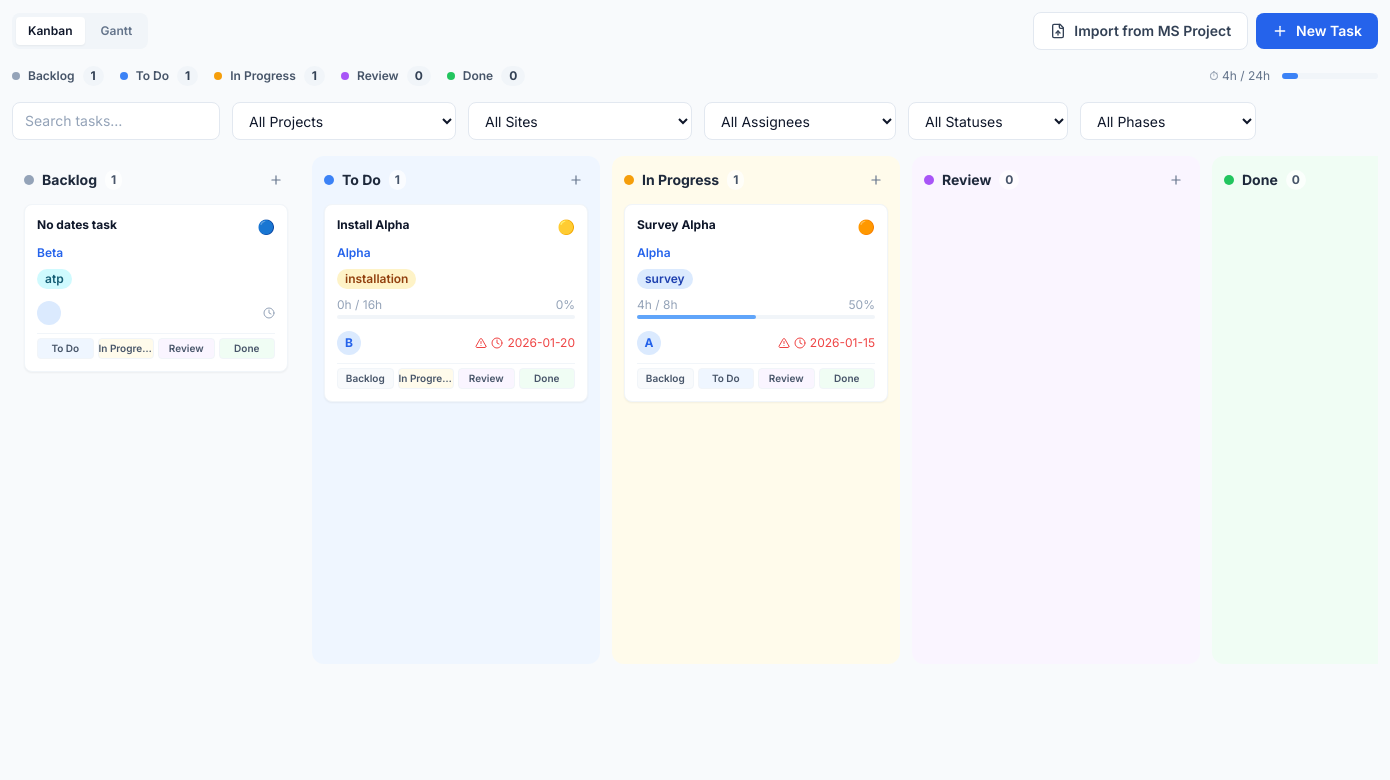
Test case: TaskBoard — tabs › schedule filter (Gantt only) narrows to unscheduled tasks
The image size is (1390, 780).
Click the tab "gantt" at coordinates (116, 31), box top-left (88, 17), bottom-right (144, 45)
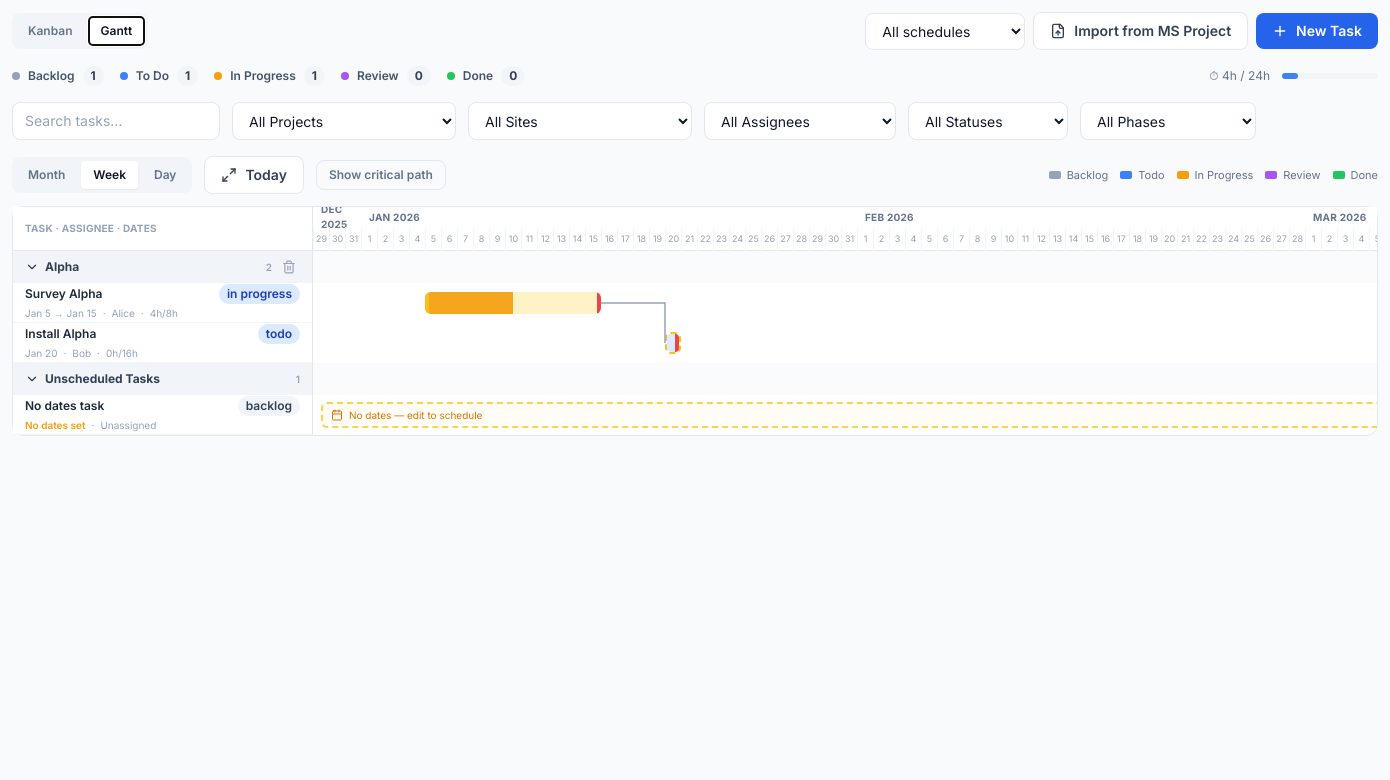
Select "Unscheduled" in the 1st dropdown showing "All schedules" at coordinates (945, 31), box top-left (865, 12), bottom-right (1025, 50)
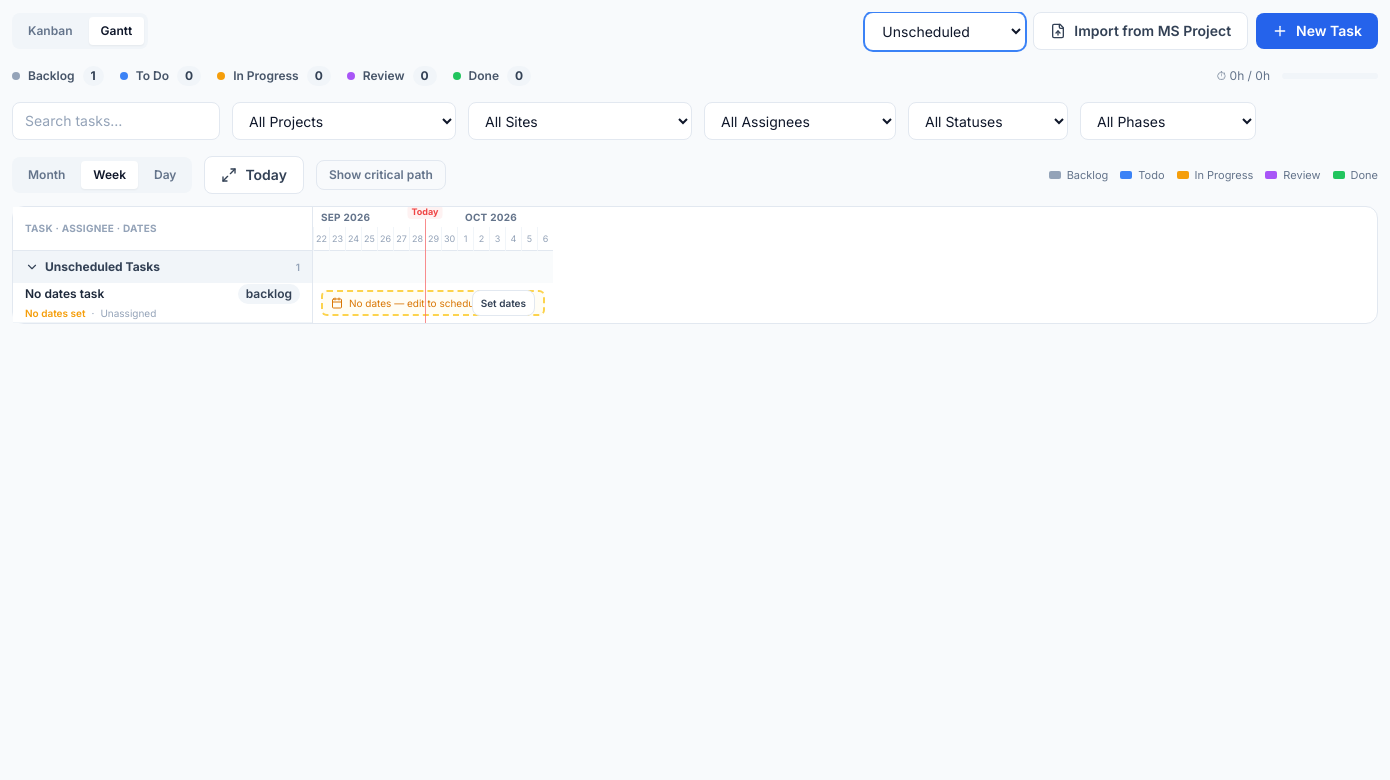
expect the text "No dates task" is shown: met, box top-left (25, 286), bottom-right (104, 301)
expect the button "Survey Alpha" is gone: met
